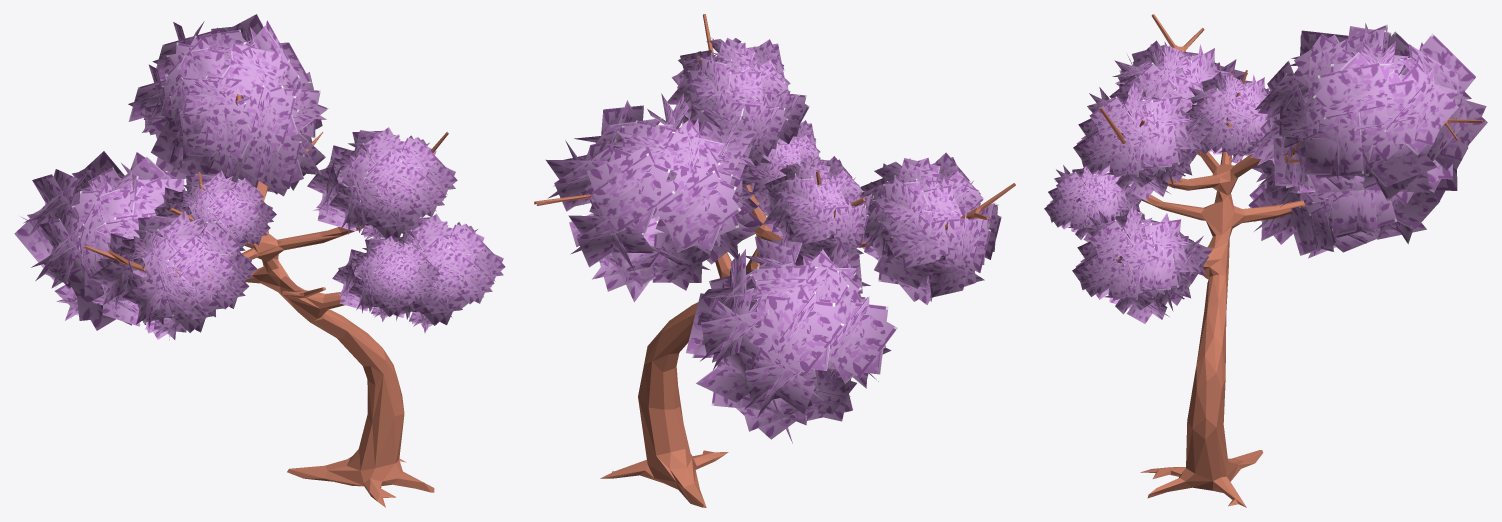
File: blossomStylized3.obj
3 views of the same model, side by side, from view 1: azimuth 30°, elevation 25°; view 2: azimuth 150°, elevation 25°; view 3: azimuth 270°, elevation 25° (orthographic). The views are drawn at different scales.
Visible parts, largest first — view 1: Plane.048_Plane.2329, Plane.003_Plane.2384, Plane.000_Plane.2381, Cube, Plane.001_Plane.2382, Plane.005_Plane.2386, Plane.002_Plane.2383, Plane.004_Plane.2385; view 2: Plane.048_Plane.2329, Plane.000_Plane.2381, Plane.003_Plane.2384, Cube, Plane.001_Plane.2382, Plane.004_Plane.2385, Plane.002_Plane.2383; view 3: Plane.048_Plane.2329, Cube, Plane.005_Plane.2386, Plane.001_Plane.2382, Plane.000_Plane.2381, Plane.004_Plane.2385, Plane.003_Plane.2384, Plane.002_Plane.2383.
Part boxes in pixels (<box>): Plane.048_Plane.2329: <box>128,14,328,196</box>; Plane.003_Plane.2384: <box>89,211,256,340</box>; Plane.000_Plane.2381: <box>14,151,223,330</box>; Cube: <box>84,94,448,507</box>; Plane.001_Plane.2382: <box>307,127,457,239</box>; Plane.005_Plane.2386: <box>372,213,505,333</box>; Plane.002_Plane.2383: <box>332,236,440,321</box>; Plane.004_Plane.2385: <box>154,170,276,251</box>; Plane.048_Plane.2329: <box>545,93,762,302</box>; Plane.000_Plane.2381: <box>686,231,897,443</box>; Plane.003_Plane.2384: <box>860,152,1001,304</box>; Cube: <box>534,14,1015,507</box>; Plane.001_Plane.2382: <box>667,37,809,167</box>; Plane.004_Plane.2385: <box>757,156,873,256</box>; Plane.002_Plane.2383: <box>746,120,829,203</box>; Plane.048_Plane.2329: <box>1247,23,1487,200</box>; Cube: <box>1099,14,1482,507</box>; Plane.005_Plane.2386: <box>1072,204,1212,323</box>; Plane.001_Plane.2382: <box>1073,81,1213,200</box>; Plane.000_Plane.2381: <box>1248,147,1467,258</box>; Plane.004_Plane.2385: <box>1186,71,1270,163</box>; Plane.003_Plane.2384: <box>1109,40,1247,151</box>; Plane.002_Plane.2383: <box>1044,165,1142,241</box>.
Bounding box in the file's own units: 17.15 × 17.85 × 17.2.
